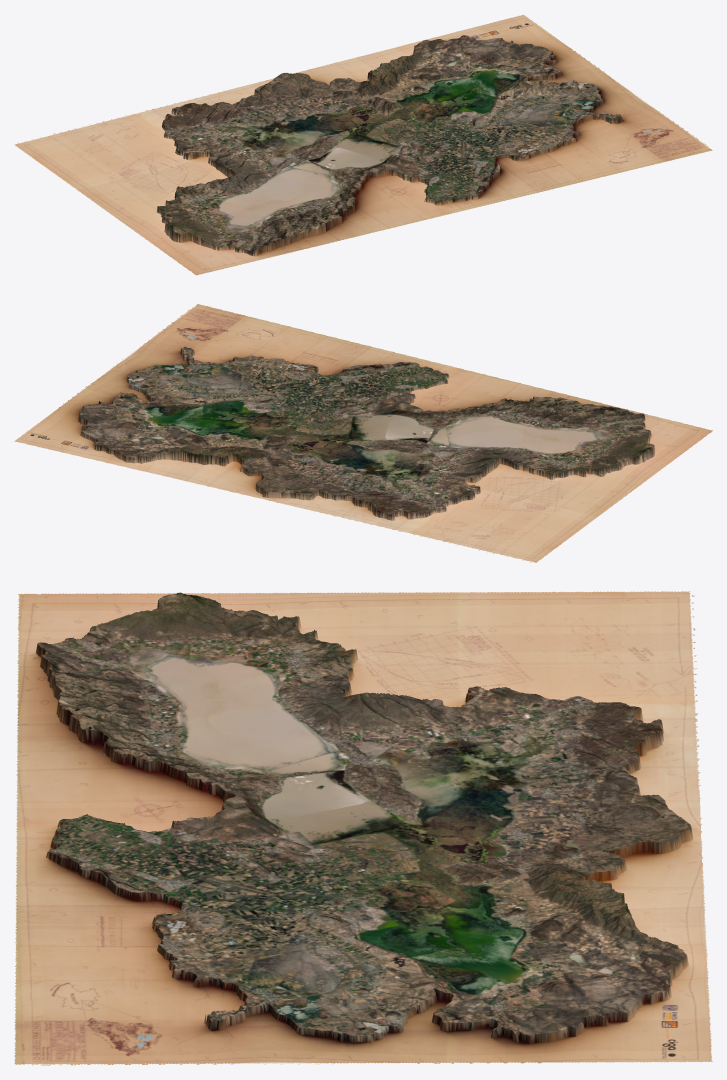
Rendered from Cuitzeo8th_4.glb.
The picture shows the model from 3 angles, top to bottom: view 1: azimuth 30°, elevation 25°; view 2: azimuth 150°, elevation 25°; view 3: azimuth 270°, elevation 25°; orthographic projection. The views are drawn at different scales.
Visible parts, largest first — view 1: Cuitcblendmapdef40px; view 2: Cuitcblendmapdef40px; view 3: Cuitcblendmapdef40px.
Part boxes in pixels (x1,y1,x2,y2): Cuitcblendmapdef40px: [14, 14, 712, 275]; Cuitcblendmapdef40px: [14, 304, 712, 562]; Cuitcblendmapdef40px: [14, 591, 712, 1065].
Size of the model in its own units: 6.35 by 0.1191 by 3.96.
1 material, 1 textured.
